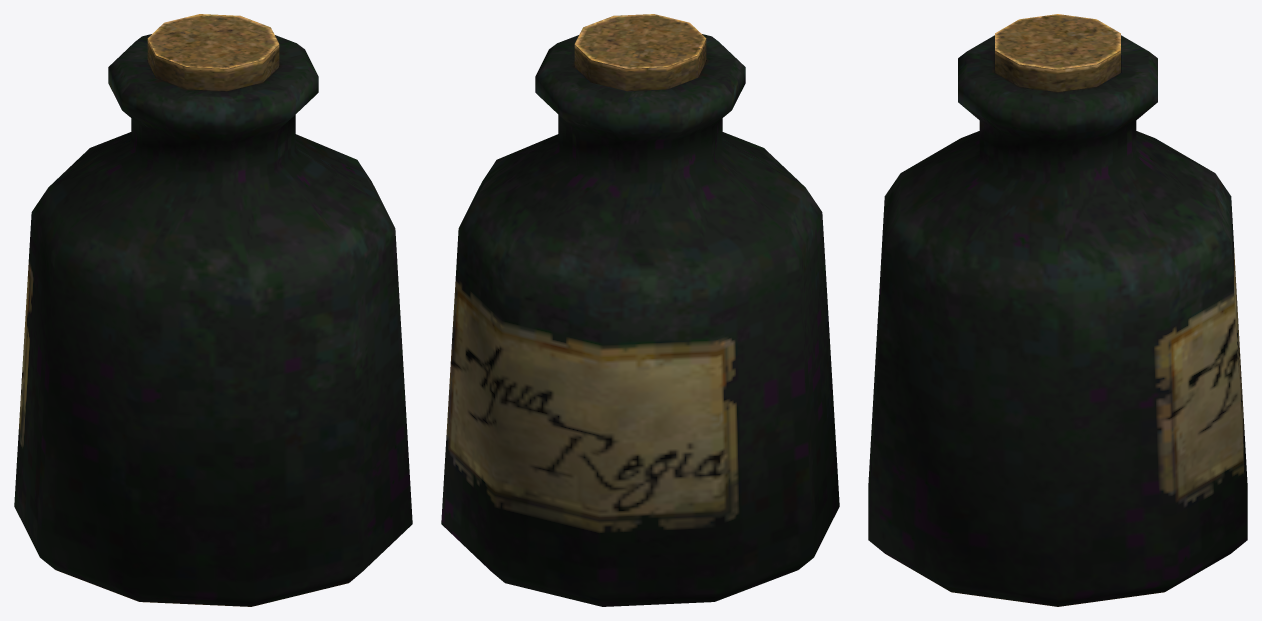
The model's file is flask01_aqua_regia.dae.
3 renders of one model, left to right at view 1: azimuth 30°, elevation 25°; view 2: azimuth 150°, elevation 25°; view 3: azimuth 270°, elevation 25°, orthographic.
Parts seen in each view (by area): view 1: Flask01; view 2: Flask01; view 3: Flask01.
Boxes of the visible parts, <box> form: Flask01: <box>14,14,412,606</box>; Flask01: <box>441,14,839,606</box>; Flask01: <box>868,14,1247,606</box>.
Bounding box in the file's own units: 0.2222 × 0.2113 × 0.3.
